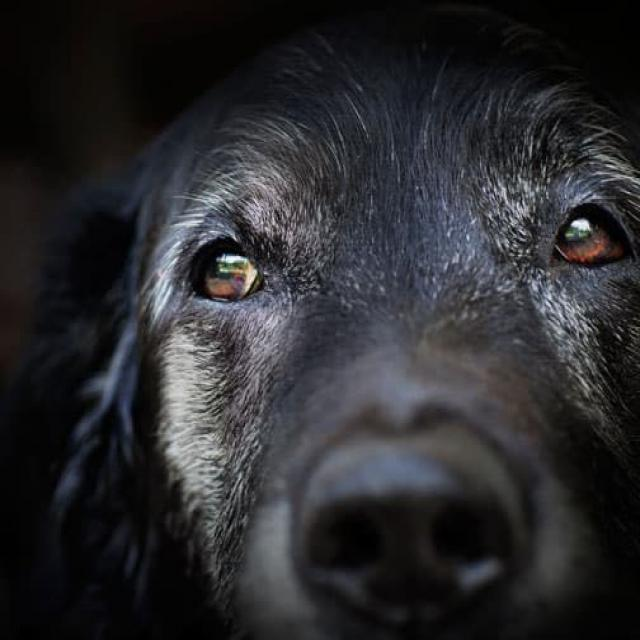eye: (541, 195, 638, 280), (180, 230, 272, 312)
